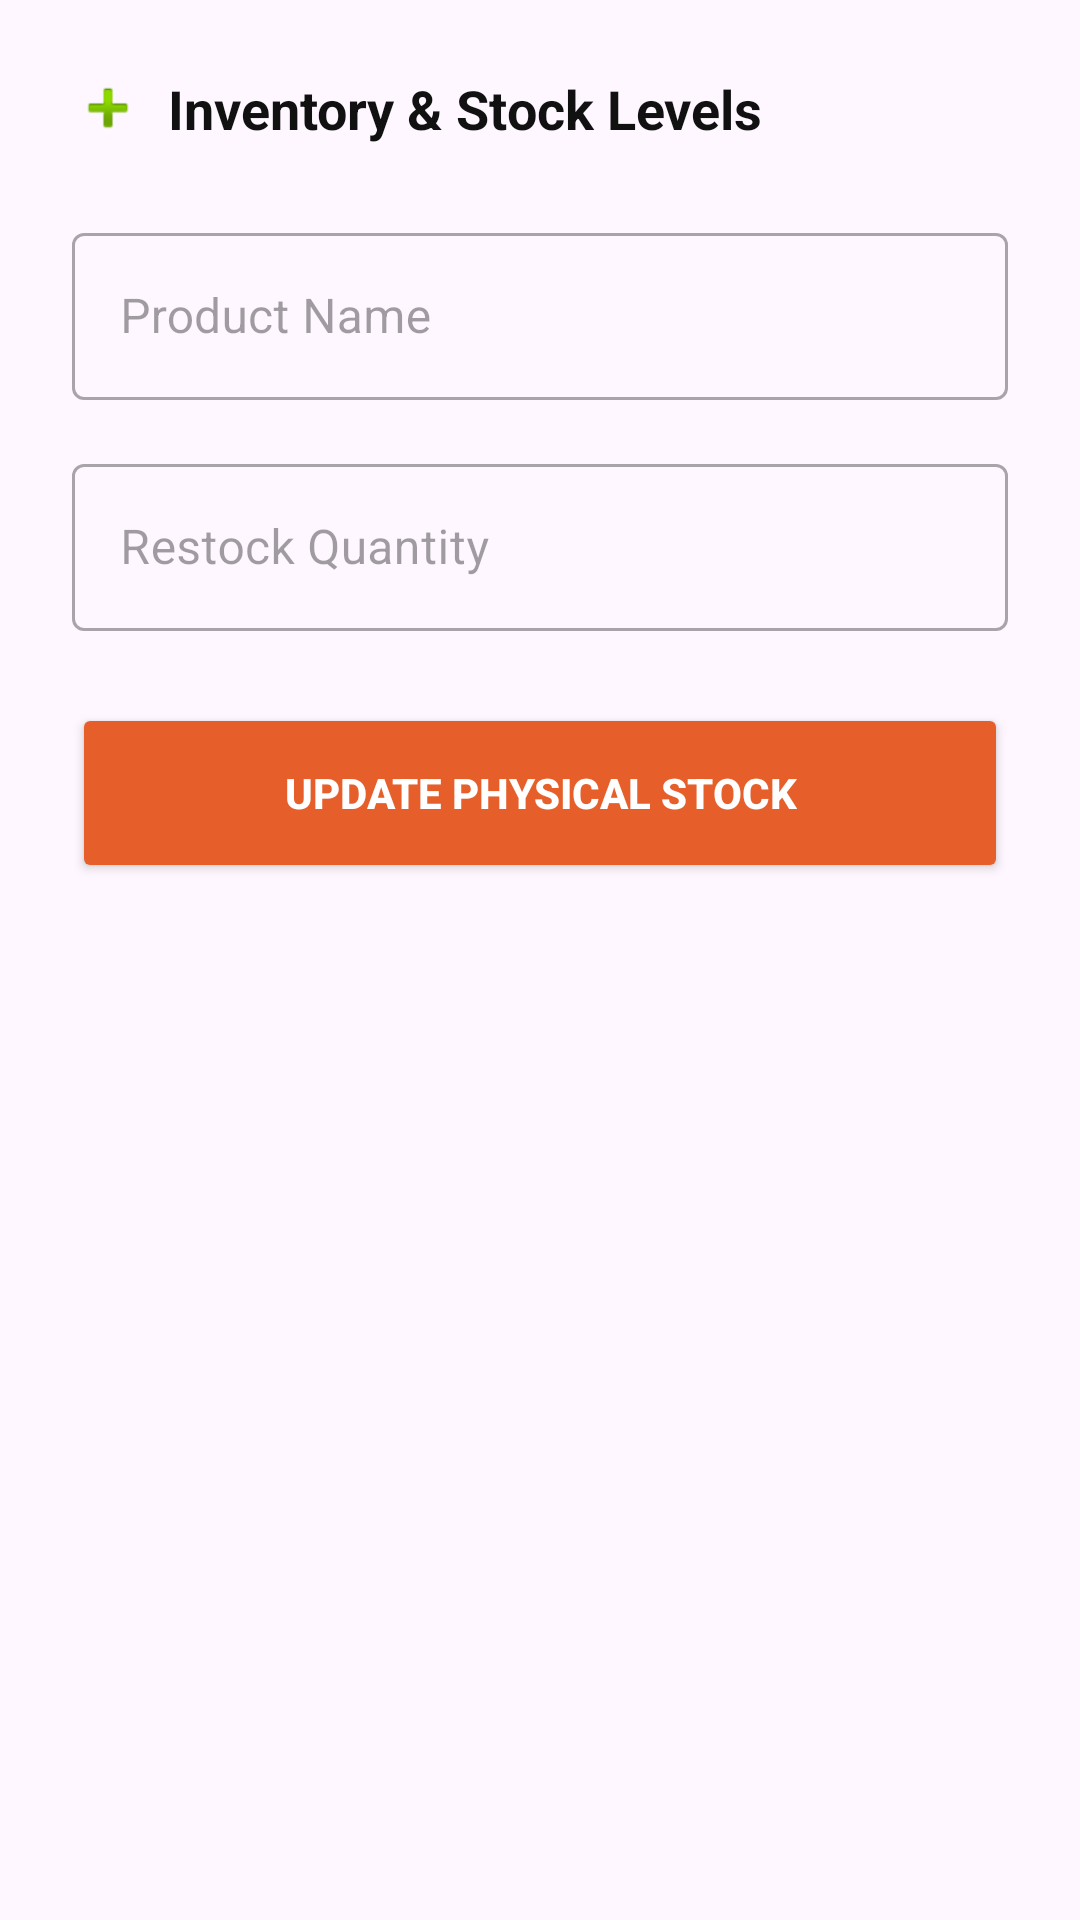

Locate icon controls on the screen. Image size 1080px×1920px, boxes as (x1, y1, x2, y2).
add: (87, 88, 129, 128)
